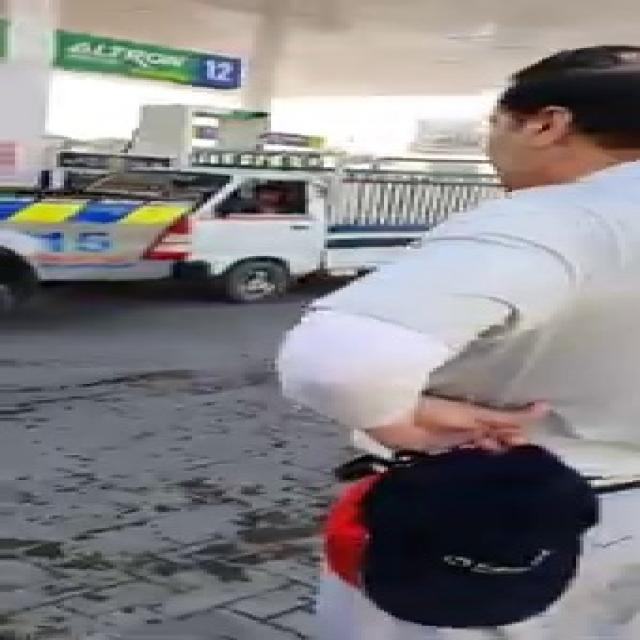police: (0, 178, 207, 284)
